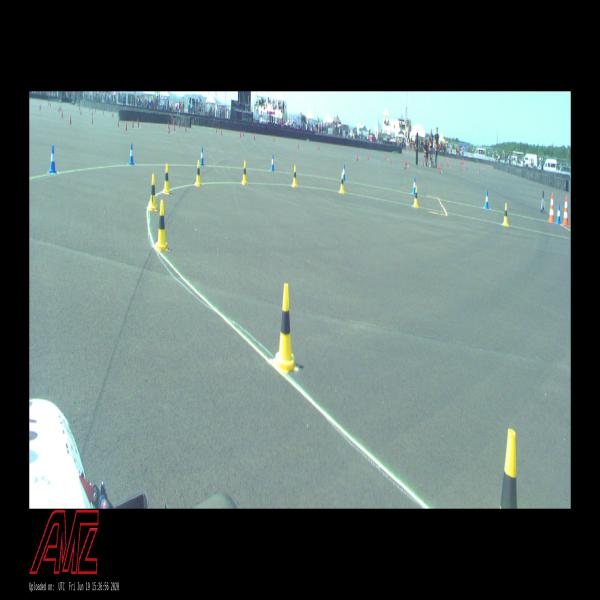blue_cone: (49, 145, 56, 173), (129, 144, 134, 165), (556, 205, 561, 224), (200, 147, 204, 166), (484, 191, 488, 209), (412, 178, 416, 194), (271, 154, 274, 171), (343, 165, 346, 181)
large_orange_cone: (548, 193, 555, 222), (563, 195, 569, 225)
yellow_cone: (272, 284, 298, 374), (500, 429, 517, 509), (156, 200, 169, 251), (149, 174, 158, 211), (163, 164, 170, 194), (195, 160, 201, 186), (242, 161, 247, 185), (503, 204, 508, 226), (292, 166, 297, 187), (413, 186, 418, 207), (340, 172, 344, 193)
